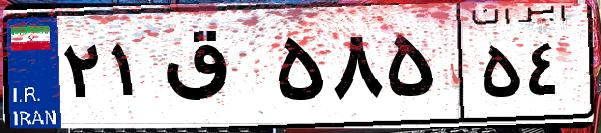1: (110, 28, 158, 98)
2: (57, 26, 110, 100)
4: (525, 38, 570, 115)
5: (270, 28, 330, 110), (385, 28, 445, 110), (475, 38, 525, 113)
8: (330, 28, 385, 110)
ق: (158, 20, 270, 120)
